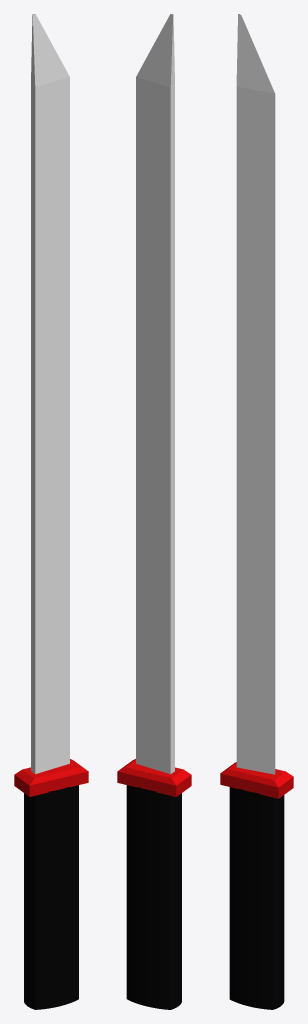
Rendered from KatanaNew2.fbx.
The picture shows the model from 3 angles, left to right: view 1: azimuth 30°, elevation 25°; view 2: azimuth 150°, elevation 25°; view 3: azimuth 330°, elevation 25°; orthographic projection.
Visible parts, largest first — view 1: Cube; view 2: Cube; view 3: Cube.
Boxes of the visible parts, x1,y1,x2,y2 form: Cube: (14,14,88,1009); Cube: (117,14,191,1009); Cube: (220,14,293,1009).
Bounding box in the file's own units: 269 × 4324 × 128.
